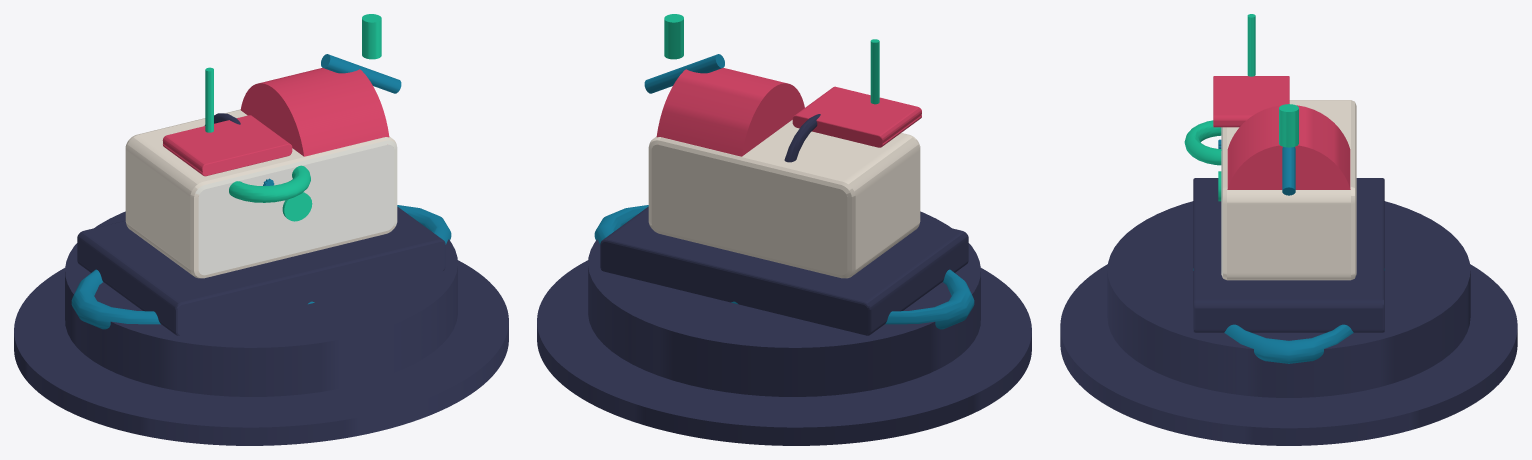
Rendered from 0452_机械图鉴_汉代陶井.glb.
3 views of the same model, side by side, from view 1: azimuth 30°, elevation 25°; view 2: azimuth 150°, elevation 25°; view 3: azimuth 270°, elevation 25° (orthographic). The views are drawn at different scales.
Parts seen in each view (by area): view 1: card_0452; view 2: card_0452; view 3: card_0452.
Part boxes in pixels (<box>): card_0452: <box>14,14,508,445</box>; card_0452: <box>537,14,1031,445</box>; card_0452: <box>1060,14,1517,445</box>.
Size of the model in its own units: 1.48 by 1 by 1.41.
